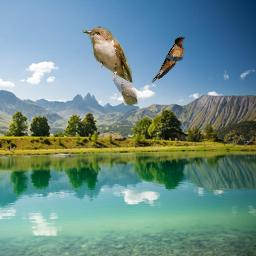Cuckoo: (82, 26, 138, 106)
Swallow: (150, 36, 186, 83)
